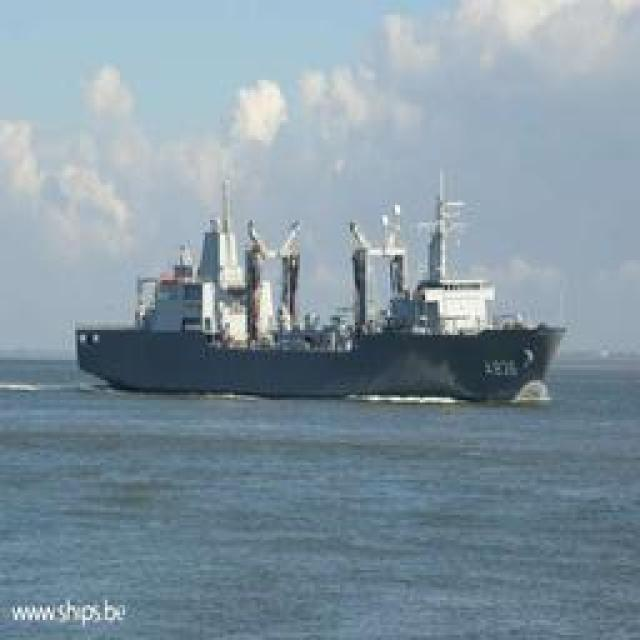CIV_Ship: (56, 142, 569, 406)
